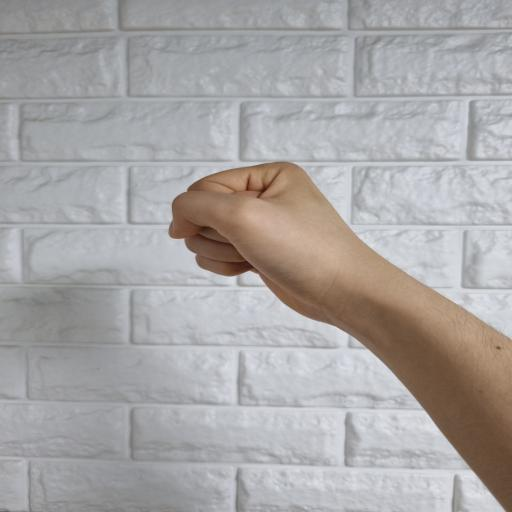Rock: (169, 161, 387, 331)
